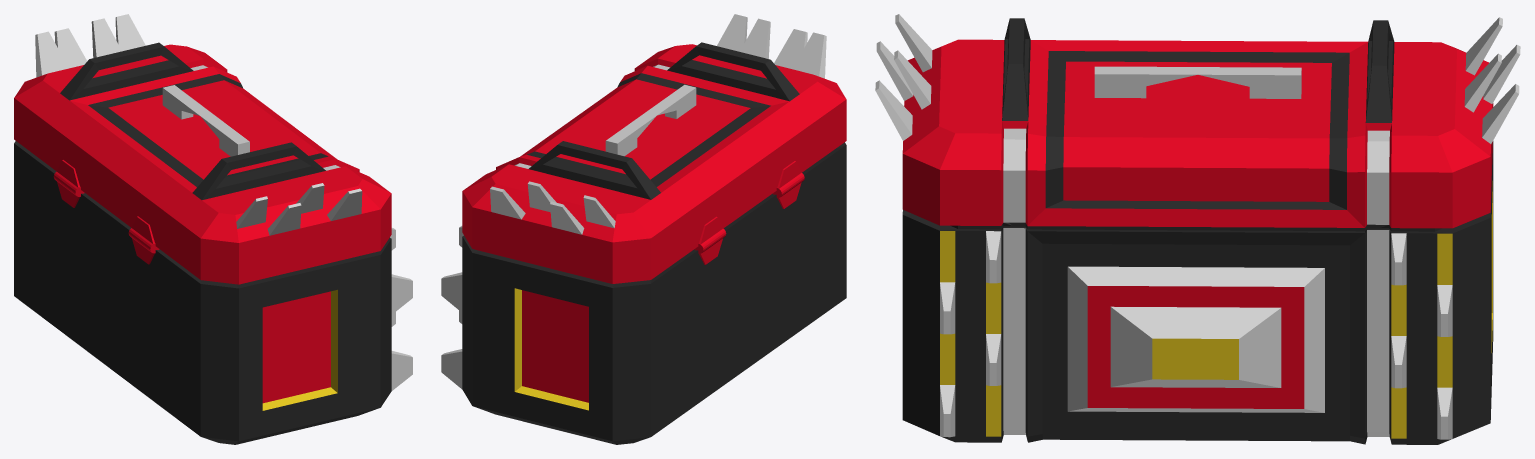
The model's file is box UPDATED NEW 3.fbx.
The picture shows the model from 3 angles, left to right: view 1: azimuth 30°, elevation 25°; view 2: azimuth 150°, elevation 25°; view 3: azimuth 270°, elevation 25°; orthographic projection. The views are drawn at different scales.
Parts seen in each view (by area): view 1: Cube, Cube.001; view 2: Cube, Cube.001; view 3: Cube, Cube.001.
Part boxes in pixels (bbox=[...]): Cube: bbox=[14, 141, 412, 444]; Cube.001: bbox=[14, 14, 391, 284]; Cube: bbox=[441, 142, 846, 444]; Cube.001: bbox=[462, 14, 846, 283]; Cube: bbox=[902, 141, 1493, 444]; Cube.001: bbox=[875, 14, 1520, 228].
Bounding box in the file's own units: 230 × 254 × 427.
